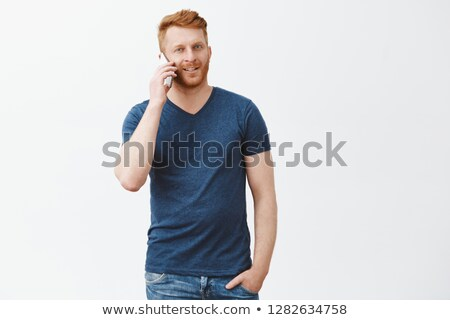phone: (152, 47, 177, 101)
talk: (148, 36, 213, 109)
